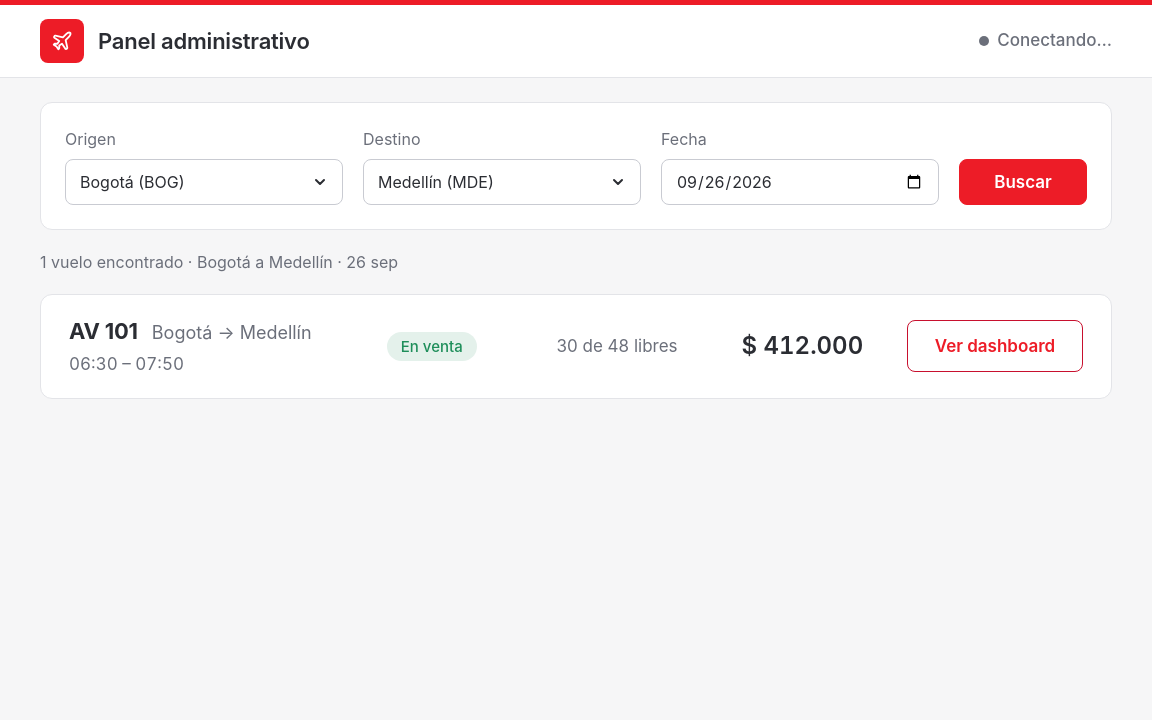
it: /admin/dashboard › "Ver dashboard" opens that flight's dashboard
This screenshot has width=1152, height=720.
Click the button with aria-label "Ver dashboard, vuelo AV 101" at (995, 346), box [907,320,1083,372]
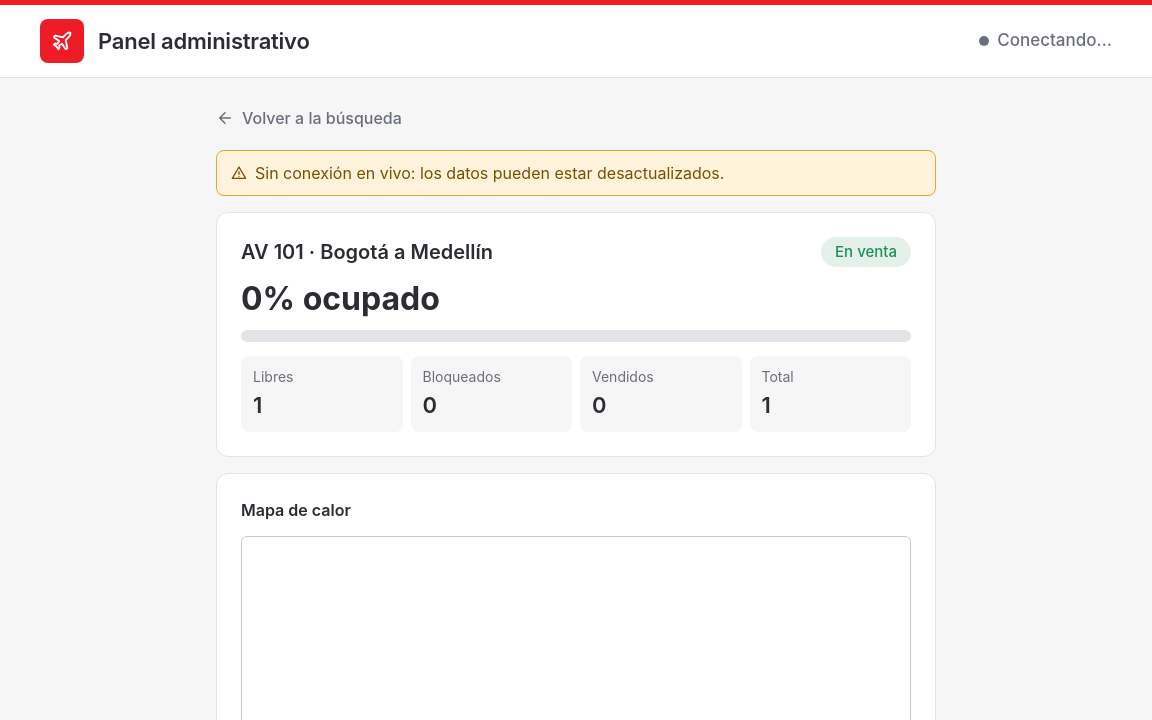
Now the heading "AV 101 · Bogotá a Medellín" is shown, box [241,237,493,267]
Now the button "Volver a la búsqueda" is shown, box [216,102,402,134]
Now the label labelled "Origen" is gone
